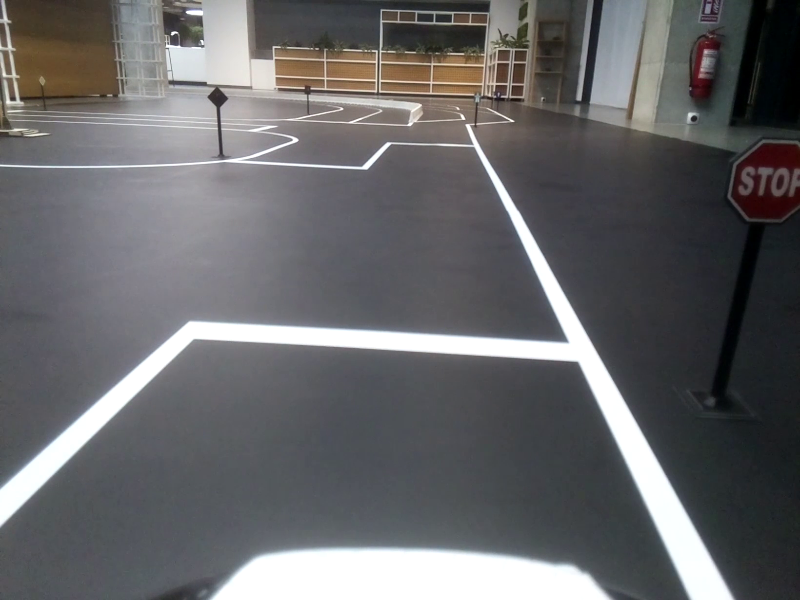stop: (723, 136, 800, 227)
